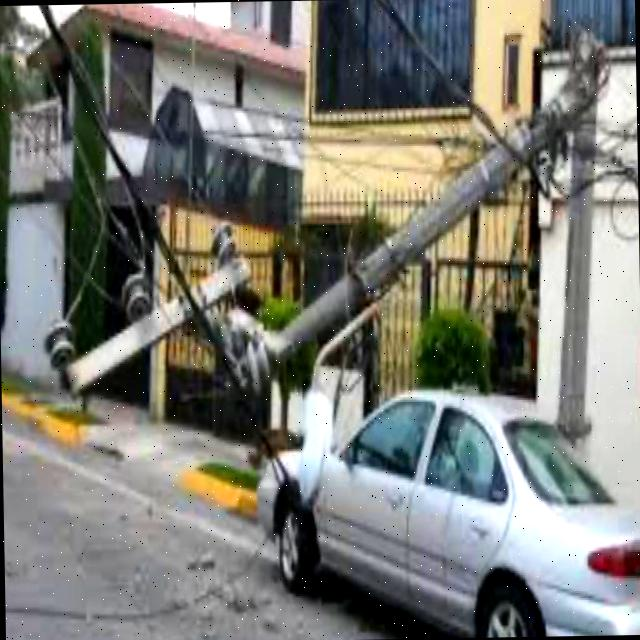Broken Pole: (39, 46, 579, 405), (552, 96, 602, 438)
